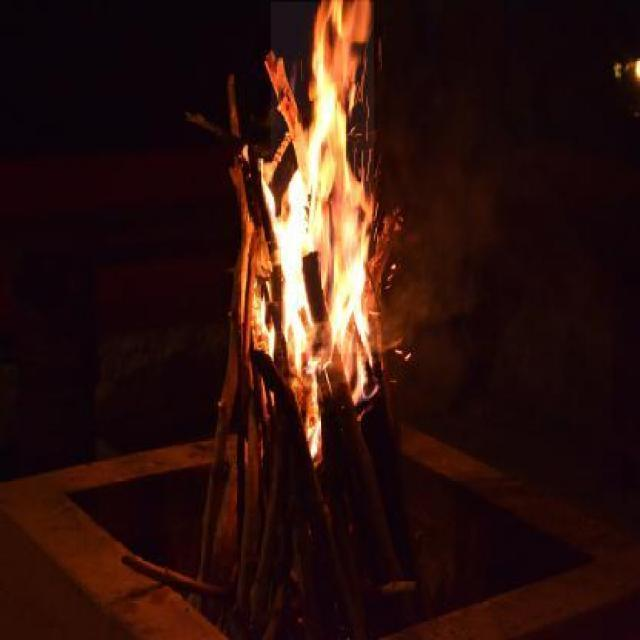fire: (239, 0, 373, 464)
